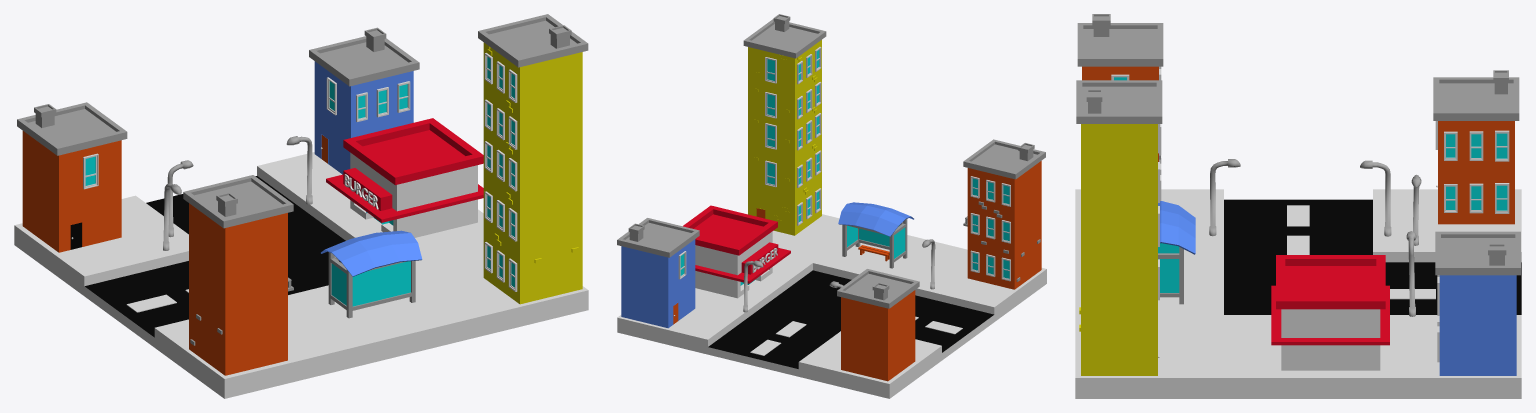
File: mapa2.fbx
The picture shows the model from 3 angles, left to right: view 1: azimuth 30°, elevation 25°; view 2: azimuth 150°, elevation 25°; view 3: azimuth 270°, elevation 25°; orthographic projection. The views are drawn at different scales.
Visible parts, largest first — view 1: Cube.013; view 2: Cube.013; view 3: Cube.013.
Boxes of the visible parts, x1,y1,x2,y2 form: Cube.013: (14,14,588,398); Cube.013: (617,14,1046,398); Cube.013: (1075,14,1521,398).
Bounding box in the file's own units: 200 × 146 × 200.
